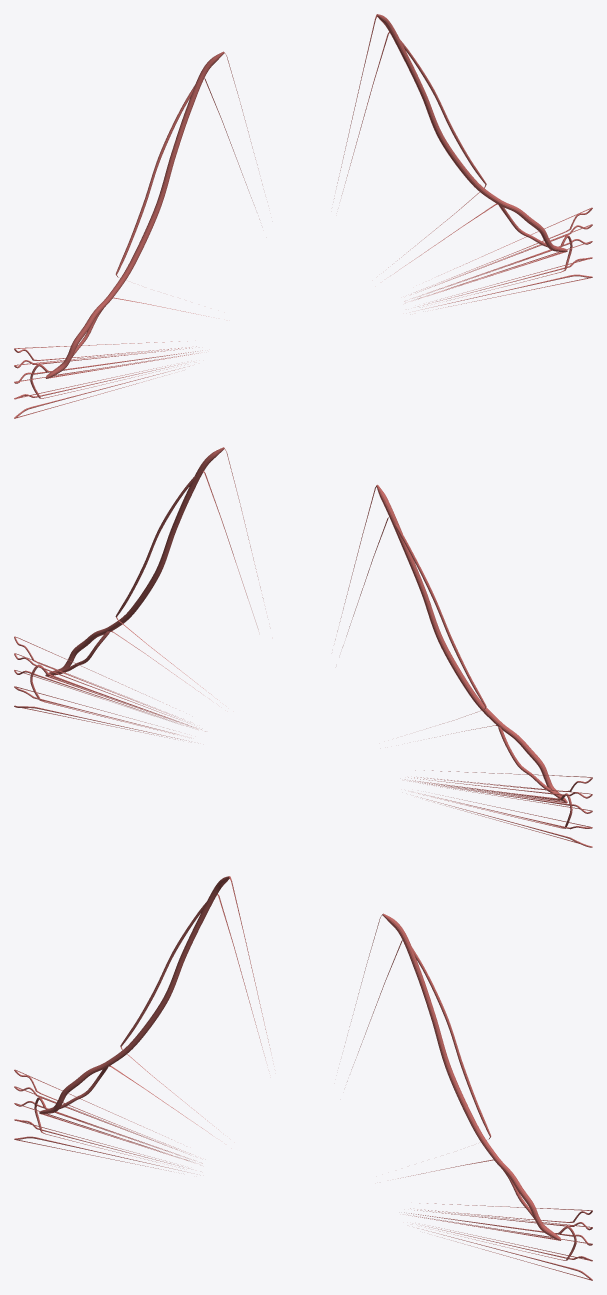
The model's file is arm_arteries.glb.
The picture shows the model from 3 angles, top to bottom: view 1: azimuth 30°, elevation 25°; view 2: azimuth 150°, elevation 25°; view 3: azimuth 330°, elevation 25°; orthographic projection.
Parts seen in each view (by area): view 1: arm_arteries; view 2: arm_arteries; view 3: arm_arteries.
Boxes of the visible parts, x1,y1,x2,y2 form: arm_arteries: [14, 14, 592, 418]; arm_arteries: [14, 447, 592, 847]; arm_arteries: [14, 876, 592, 1280].
Size of the model in its own units: 1.02 by 0.5269 by 0.0446.
